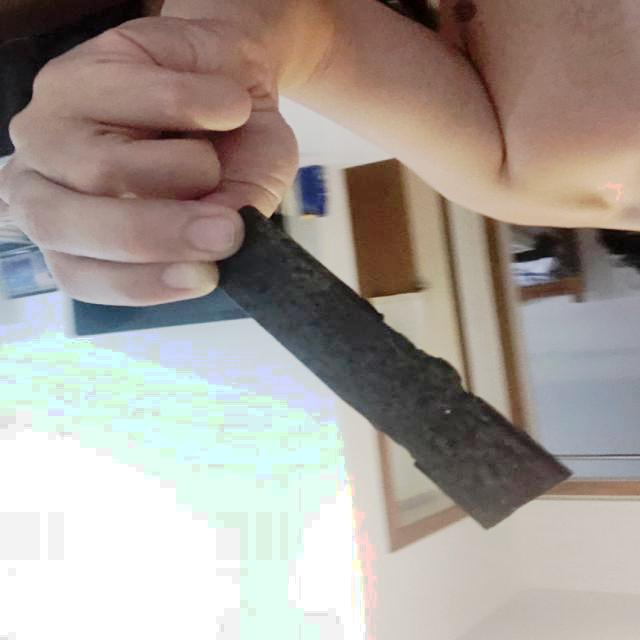Corrosion: (220, 206, 573, 530)
